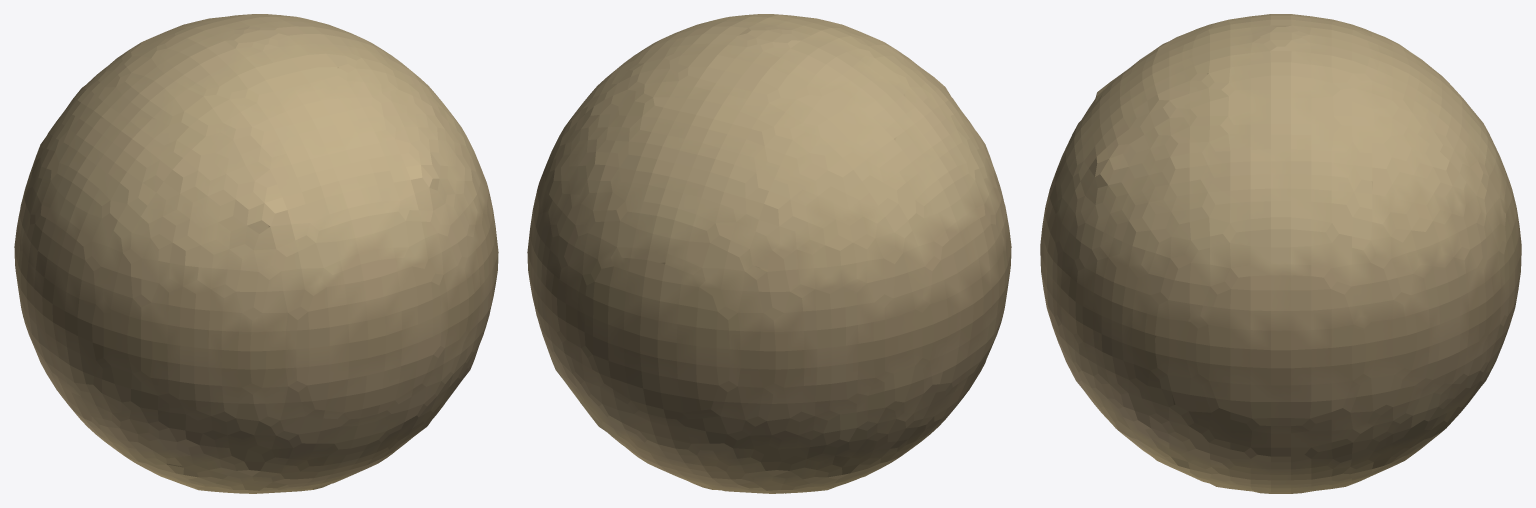
File: poisonSlime.glb
3 views of the same model, side by side, from view 1: azimuth 30°, elevation 25°; view 2: azimuth 150°, elevation 25°; view 3: azimuth 270°, elevation 25° (orthographic).
Parts seen in each view (by area): view 1: geometry_0; view 2: geometry_0; view 3: geometry_0.
Part boxes in pixels (x1,y1,x2,y2): geometry_0: (14, 14, 498, 493); geometry_0: (527, 14, 1011, 493); geometry_0: (1040, 14, 1521, 493).
Size of the model in its own units: 1.02 by 0.9937 by 1.02.
1 material, 1 textured.
